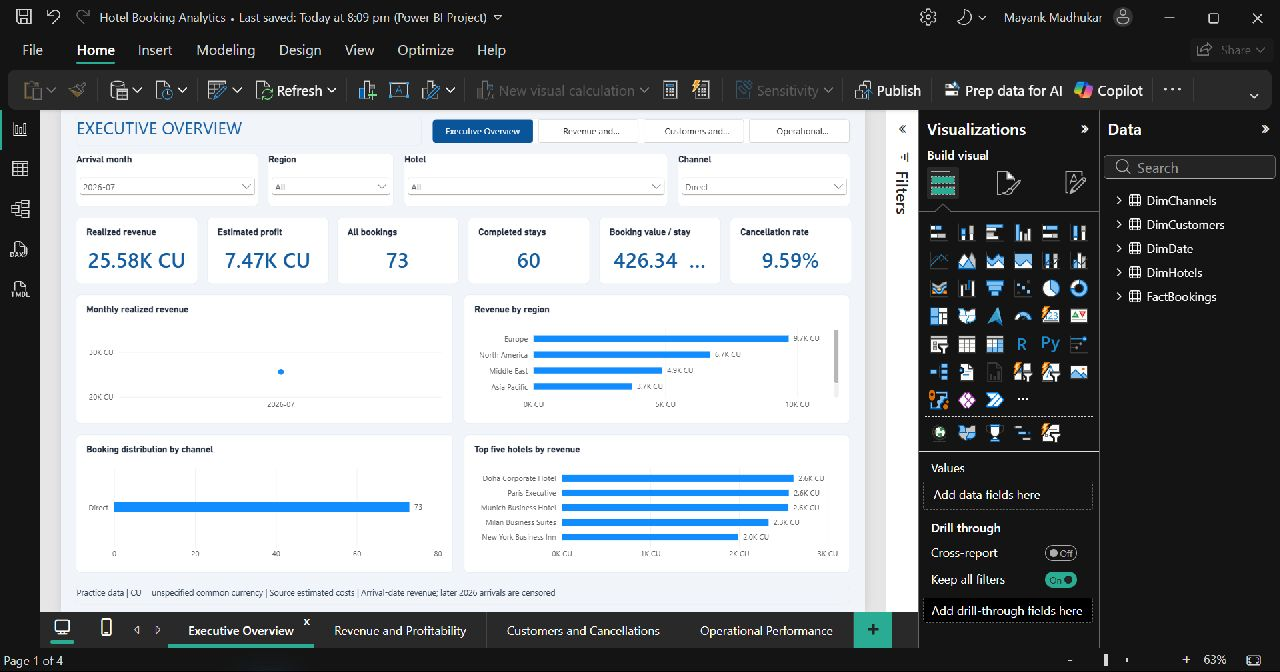

The page's visual inventory and layout, read from the dashboard file:
{"tool":"powerbi","page":{"name":"Executive Overview","canvas":[1280,800],"ordinal":0},"visuals":[{"type":"textbox","title":"Header","box":[24,10,550,48],"z":124},{"type":"slicer","title":"Arrival month","fields":{"Values":["DimDate.year_month"]},"box":[24,70,290,84],"z":724},{"type":"pageNavigator","title":"Page navigation","box":[590,14,666,40],"z":730},{"type":"slicer","title":"Region","fields":{"Values":["DimHotels.region"]},"box":[330,70,200,84],"z":1030},{"type":"slicer","title":"Hotel","fields":{"Values":["DimHotels.hotel_name"]},"box":[546,70,420,84],"z":1246},{"type":"slicer","title":"Channel","fields":{"Values":["DimChannels.channel_name"]},"box":[982,70,274,84],"z":1682},{"type":"card","title":"Realized revenue","fields":{"Values":["FactBookings.Total Revenue"]},"box":[24,172,194,105],"z":1744},{"type":"card","title":"Estimated profit","fields":{"Values":["FactBookings.Total Profit"]},"box":[232,172,194,105],"z":1952},{"type":"card","title":"All bookings","fields":{"Values":["FactBookings.Total Bookings"]},"box":[440,172,194,105],"z":2160},{"type":"card","title":"Completed stays","fields":{"Values":["FactBookings.Completed Bookings"]},"box":[648,172,194,105],"z":2368},{"type":"card","title":"Booking value / stay","fields":{"Values":["FactBookings.Average Booking Value"]},"box":[856,172,194,105],"z":2576},{"type":"card","title":"Cancellation rate","fields":{"Values":["FactBookings.Cancellation Rate"]},"box":[1064,172,194,105],"z":2784},{"type":"lineChart","title":"Monthly realized revenue","fields":{"Category":["DimDate.year_month"],"Y":["FactBookings.Total Revenue"]},"box":[24,295,600,205],"z":2974},{"type":"clusteredBarChart","title":"Revenue by region","fields":{"Category":["DimHotels.region"],"Y":["FactBookings.Total Revenue"]},"box":[642,295,614,205],"z":3592},{"type":"clusteredBarChart","title":"Booking distribution by channel","fields":{"Category":["DimChannels.channel_name"],"Y":["FactBookings.Total Bookings"]},"box":[24,518,600,220],"z":5204},{"type":"clusteredBarChart","title":"Top five hotels by revenue","fields":{"Category":["DimHotels.hotel_name"],"Y":["FactBookings.Top Five Hotel Revenue"]},"box":[642,518,614,220],"z":5822},{"type":"textbox","title":"Source note","box":[24,758,1232,30],"z":7604}]}

Visuals, with their boxes on the page's 1280x800 design canvas (x1, y1, x2, y2). These are canvas units, not pixel positions in the 1280x672 screenshot, which may show the page scaled, cropped or inside an application window:
"Header" textbox: region(24, 10, 574, 58)
"Arrival month" slicer: region(24, 70, 314, 154)
"Page navigation" pageNavigator: region(590, 14, 1256, 54)
"Region" slicer: region(330, 70, 530, 154)
"Hotel" slicer: region(546, 70, 966, 154)
"Channel" slicer: region(982, 70, 1256, 154)
"Realized revenue" card: region(24, 172, 218, 277)
"Estimated profit" card: region(232, 172, 426, 277)
"All bookings" card: region(440, 172, 634, 277)
"Completed stays" card: region(648, 172, 842, 277)
"Booking value / stay" card: region(856, 172, 1050, 277)
"Cancellation rate" card: region(1064, 172, 1258, 277)
"Monthly realized revenue" lineChart: region(24, 295, 624, 500)
"Revenue by region" clusteredBarChart: region(642, 295, 1256, 500)
"Booking distribution by channel" clusteredBarChart: region(24, 518, 624, 738)
"Top five hotels by revenue" clusteredBarChart: region(642, 518, 1256, 738)
"Source note" textbox: region(24, 758, 1256, 788)
